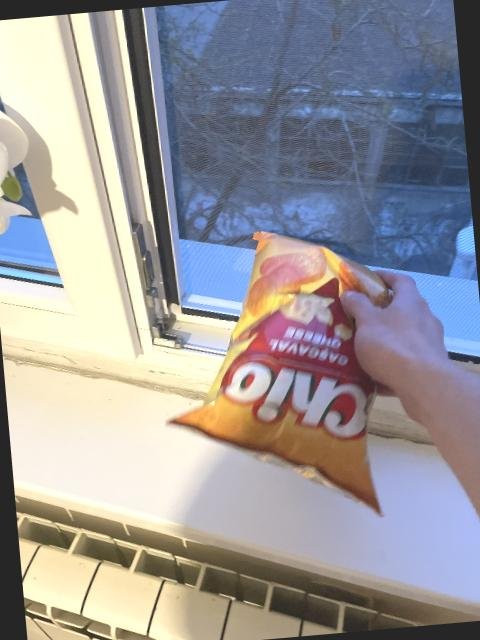Chio Cascaval 125g: (153, 221, 410, 528)
